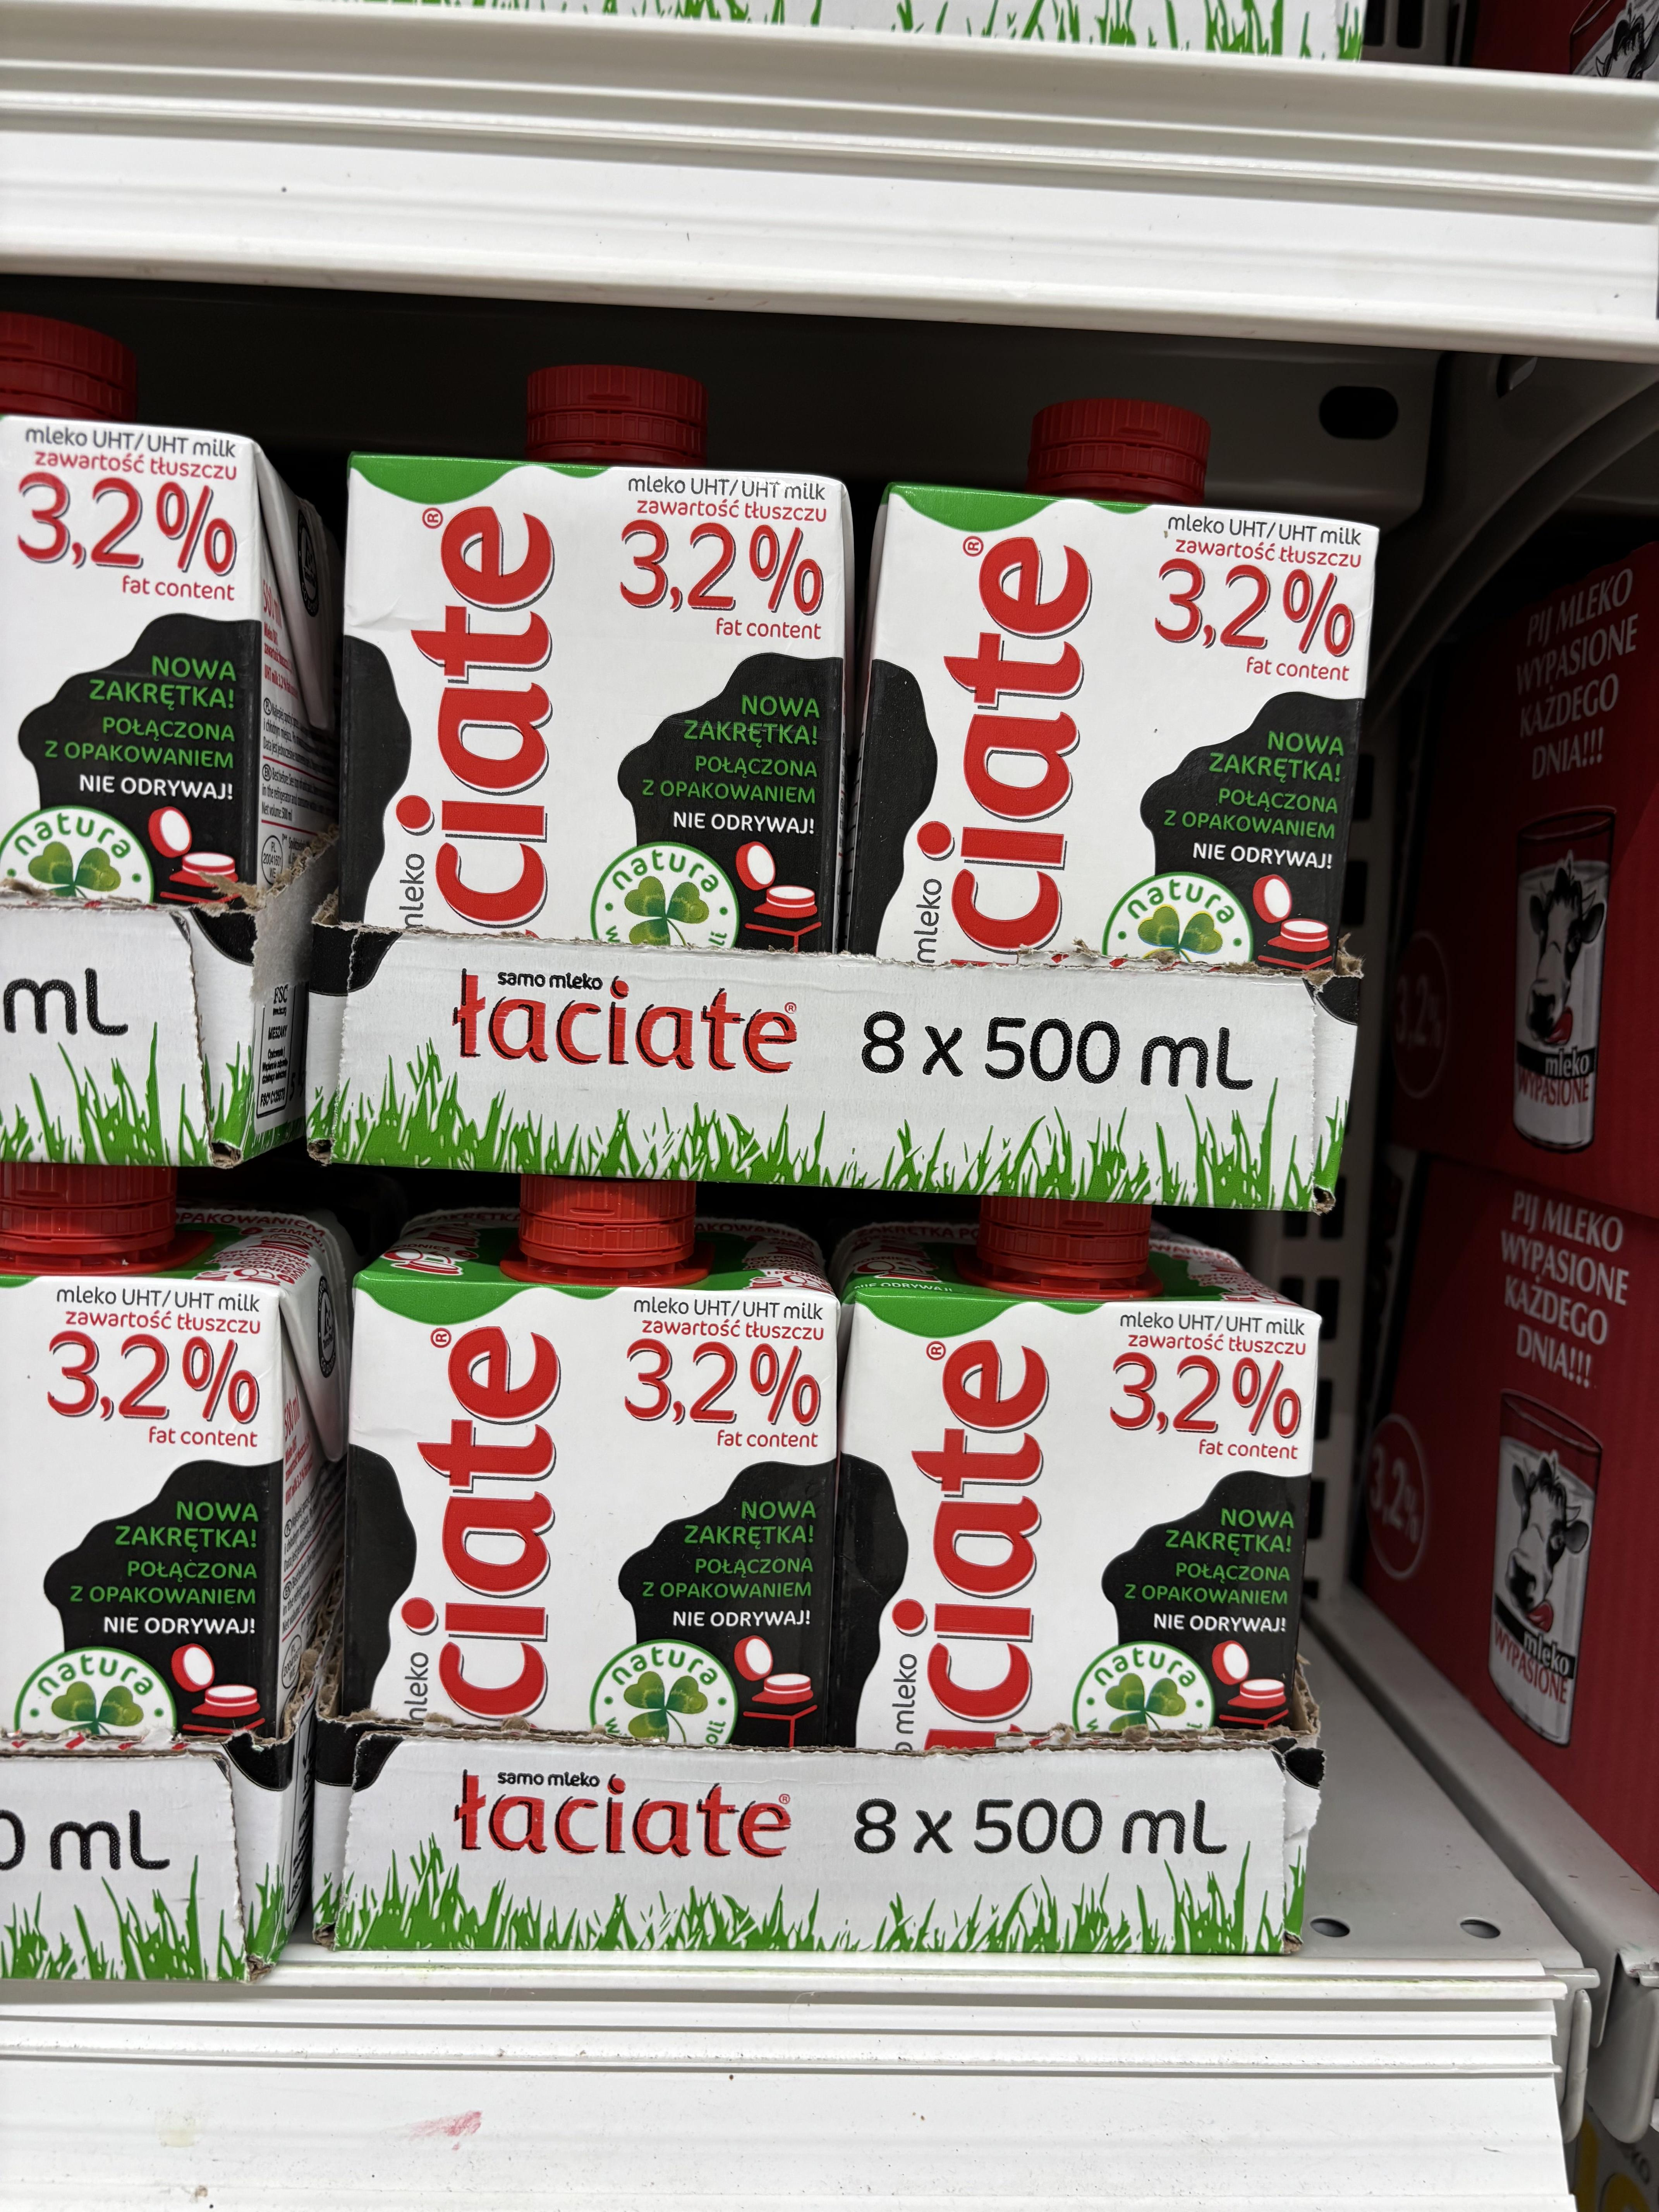Milk: (291, 441, 850, 1064), (335, 1202, 826, 1850), (843, 458, 1326, 1092), (838, 1266, 1319, 1885)
